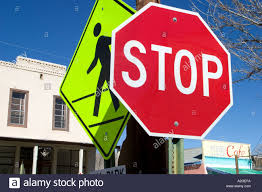Stop: (104, 13, 235, 144)
